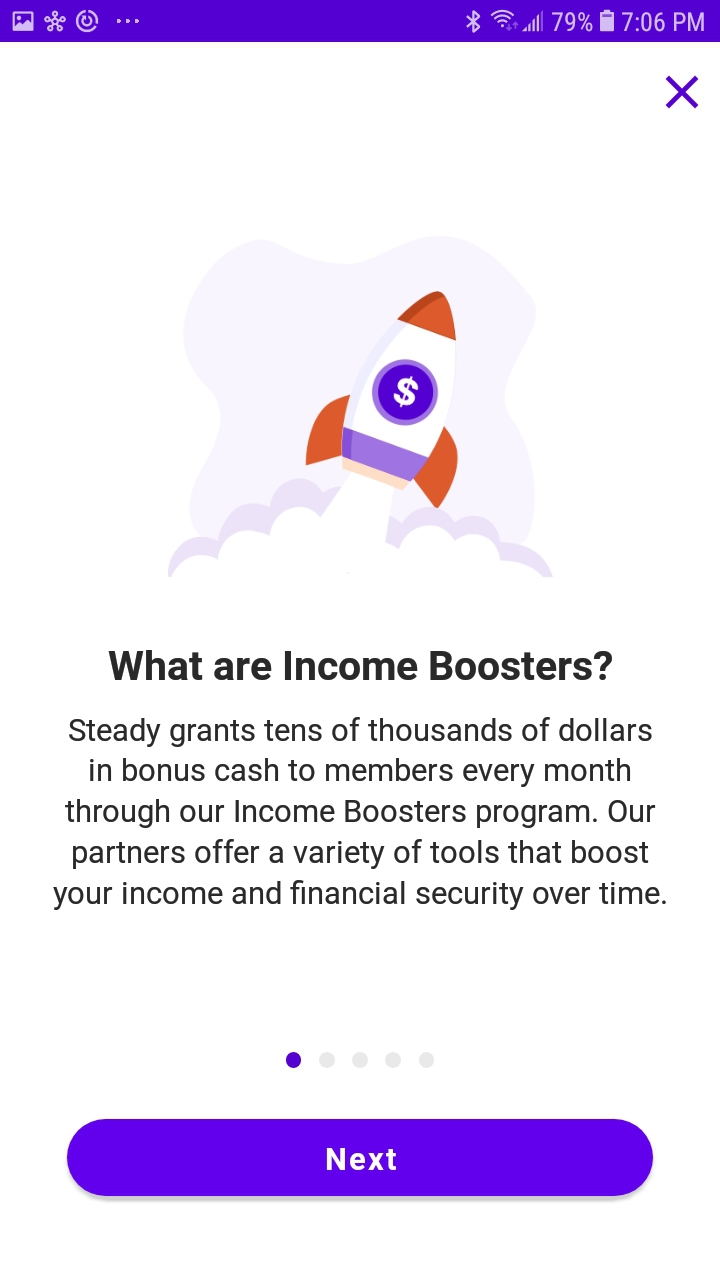Icon: (665, 76, 699, 110)
Image: (169, 236, 554, 578)
PageIndicator: (286, 1051, 435, 1069)
Text: (53, 717, 667, 912), (108, 650, 613, 682)
TextButton: (67, 1118, 654, 1197)
UpperTaskBar: (1, 1, 720, 43)
